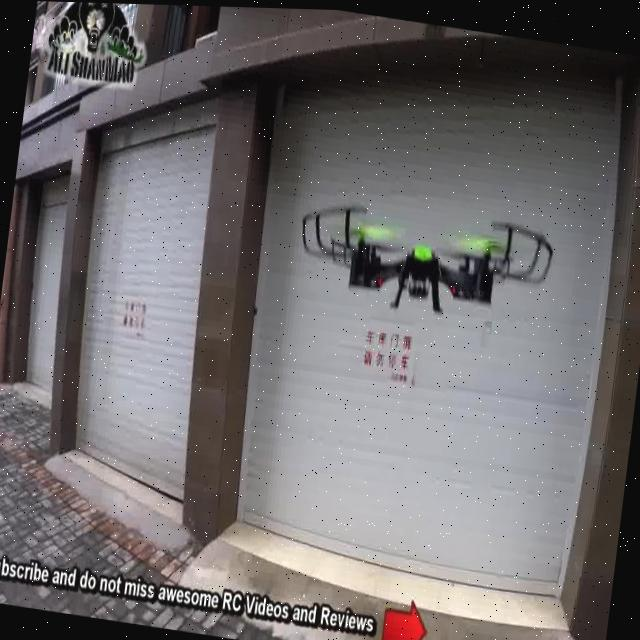drone: (286, 182, 558, 331)
